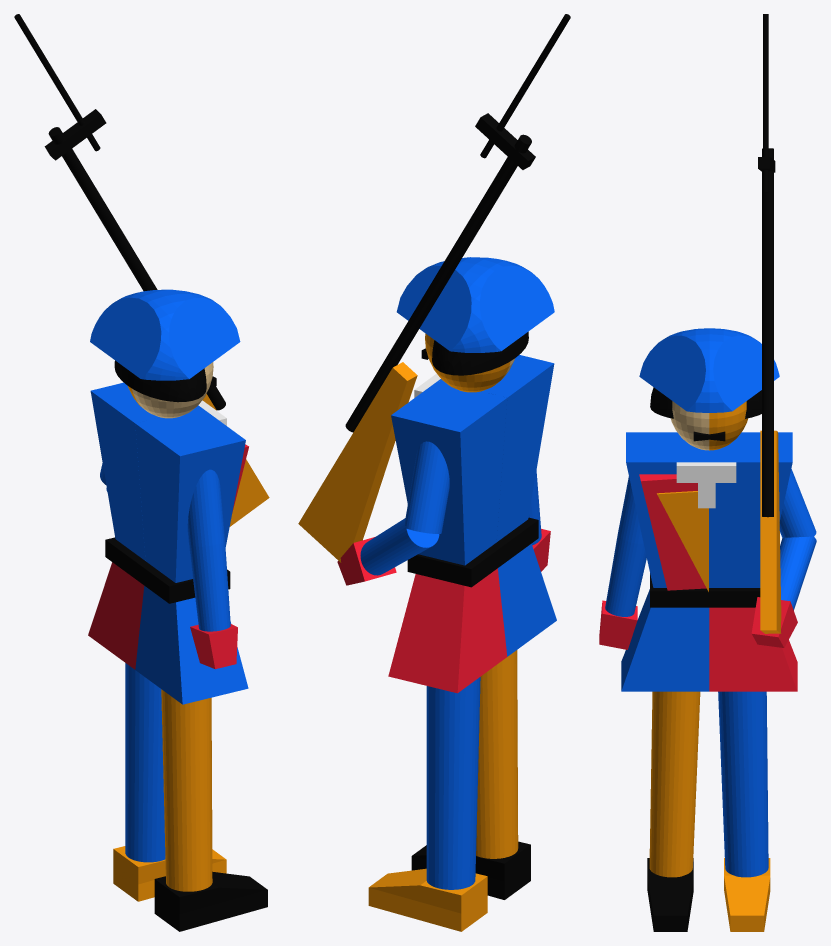
The model's file is oficer_anim_2.gltf.
3 renders of one model, left to right at view 1: azimuth 30°, elevation 25°; view 2: azimuth 150°, elevation 25°; view 3: azimuth 270°, elevation 25°, orthographic. The views are drawn at different scales.
Visible parts, largest first — view 1: Cube.005, Sphere.001, Cylinder.005, Cylinder.004, Cube.004, Cube.007, Cube.001, Cylinder.003, Cylinder.006, Cylinder.002, Cube.002, Cube.006 (+6 smaller); view 2: Cube.005, Cube.001, Cylinder.004, Sphere.001, Cube.010, Cylinder.005, Cube.006, Cylinder.006, Cube.004, Cylinder, Cube.002, Cylinder.001 (+6 smaller); view 3: Cube.005, Cylinder.004, Cylinder.005, Sphere.001, Cube.004, Cube.001, Cylinder.006, Cube.008, Cube.010, Cube.009, Cube.006, Cube.007 (+13 smaller).
Boxes of the visible parts, bbox=[...] form: Cube.005: bbox=[90, 382, 245, 582]; Sphere.001: bbox=[90, 289, 240, 380]; Cylinder.005: bbox=[161, 689, 212, 891]; Cylinder.004: bbox=[125, 663, 165, 862]; Cube.004: bbox=[135, 586, 248, 704]; Cube.007: bbox=[154, 871, 267, 931]; Cube.001: bbox=[88, 562, 144, 669]; Cylinder.003: bbox=[189, 541, 230, 631]; Cylinder.006: bbox=[48, 127, 225, 410]; Cylinder.002: bbox=[187, 469, 224, 546]; Cube.002: bbox=[105, 537, 230, 603]; Cube.006: bbox=[113, 846, 226, 901]; Cube.005: bbox=[391, 355, 554, 565]; Cube.001: bbox=[388, 568, 507, 693]; Cylinder.004: bbox=[426, 677, 480, 889]; Sphere.001: bbox=[396, 257, 554, 352]; Cube.010: bbox=[298, 362, 417, 562]; Cylinder.005: bbox=[476, 650, 518, 858]; Cube.006: bbox=[368, 868, 487, 931]; Cylinder.006: bbox=[345, 134, 531, 432]; Cube.004: bbox=[498, 543, 556, 656]; Cylinder: bbox=[405, 441, 449, 533]; Cube.002: bbox=[407, 517, 538, 587]; Cylinder.001: bbox=[360, 518, 439, 575]; Cube.005: bbox=[626, 432, 792, 587]; Cylinder.004: bbox=[718, 691, 768, 877]; Cylinder.005: bbox=[649, 691, 700, 877]; Sphere.001: bbox=[639, 328, 779, 412]; Cube.004: bbox=[621, 589, 709, 691]; Cube.001: bbox=[709, 607, 797, 691]; Cylinder.006: bbox=[762, 148, 773, 517]; Cube.008: bbox=[639, 474, 706, 590]; Cube.010: bbox=[760, 430, 781, 633]; Cube.009: bbox=[657, 491, 708, 591]; Cube.006: bbox=[724, 858, 770, 931]; Cube.007: bbox=[647, 858, 693, 931].
Bounding box in the file's own units: 2.28 × 7.72 × 1.83.
6 materials, 4 textured.
